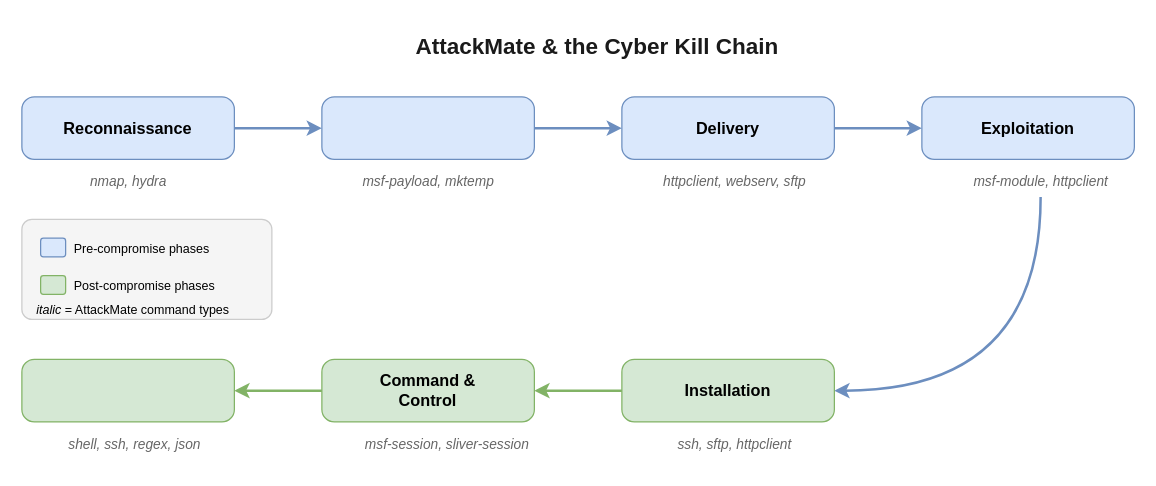
The diagram is 1156 pixels wide and 486 high, and some of its shapes have lost their labels. The centre of each missing label's shape, as x and y in pixels:
Actions on Objectives: (127,390)
Weaponization: (427,127)
